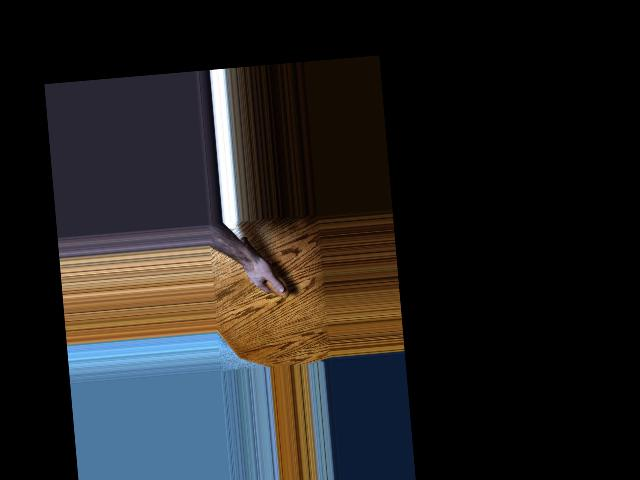sweet_potato: (237, 231, 288, 302)
